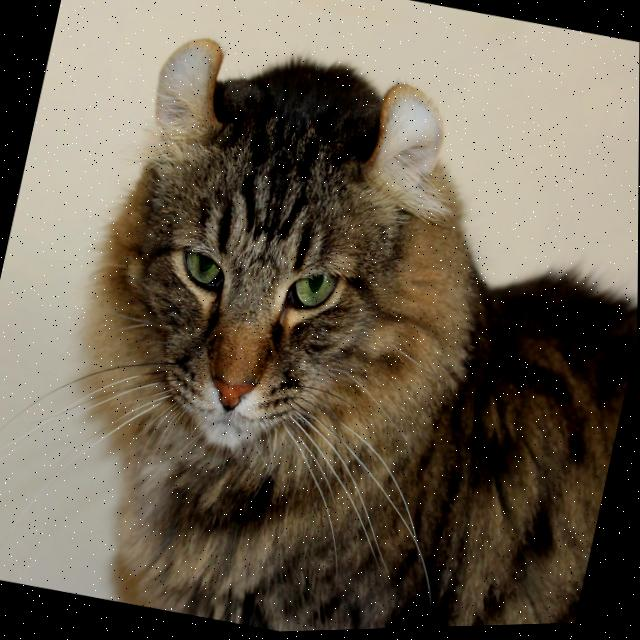American Curl: (16, 2, 640, 640)
